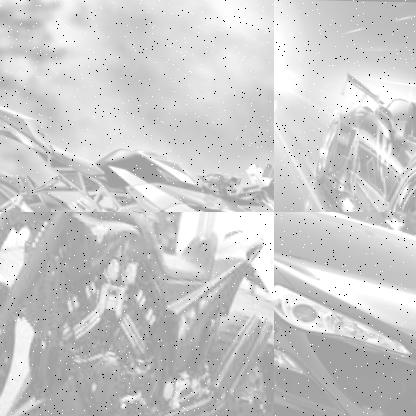bike: (0, 212, 274, 416), (0, 97, 274, 212)
car: (274, 212, 416, 416), (274, 65, 416, 212)
